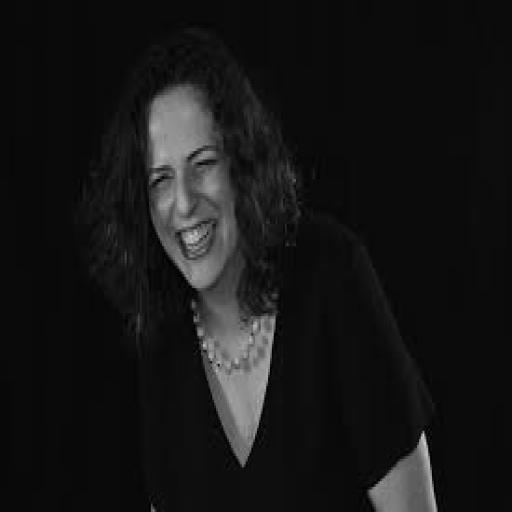laughing: (65, 22, 445, 506)
